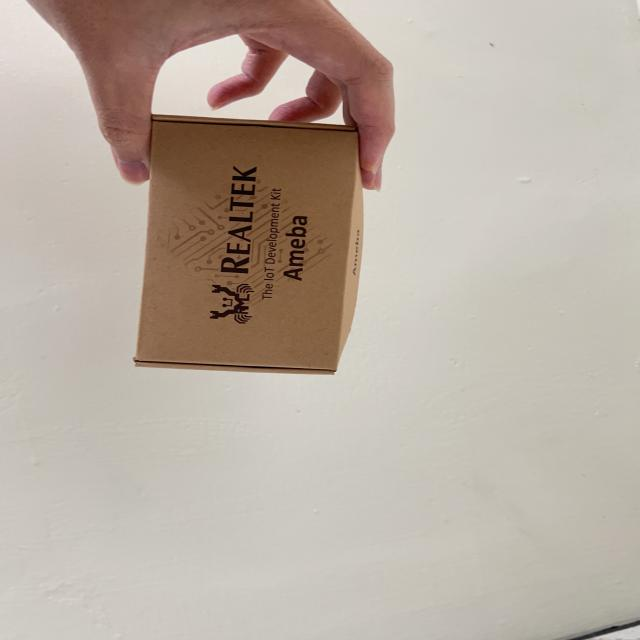box: (112, 89, 397, 410)
